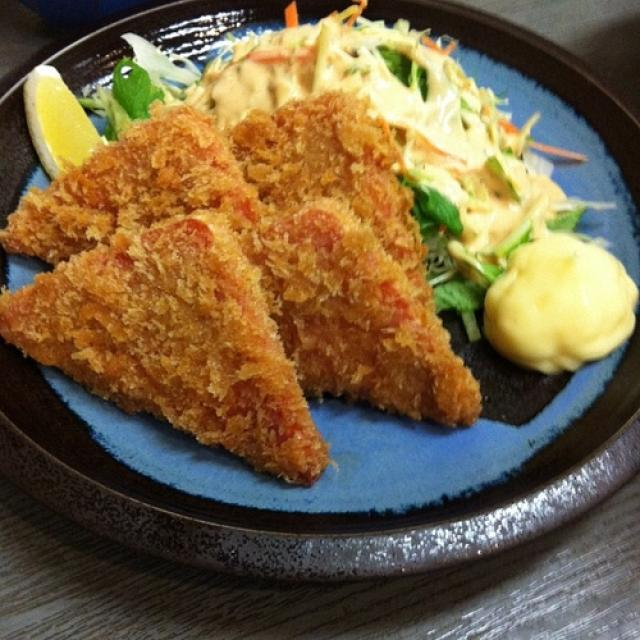炸货点心: (5, 60, 495, 498)
